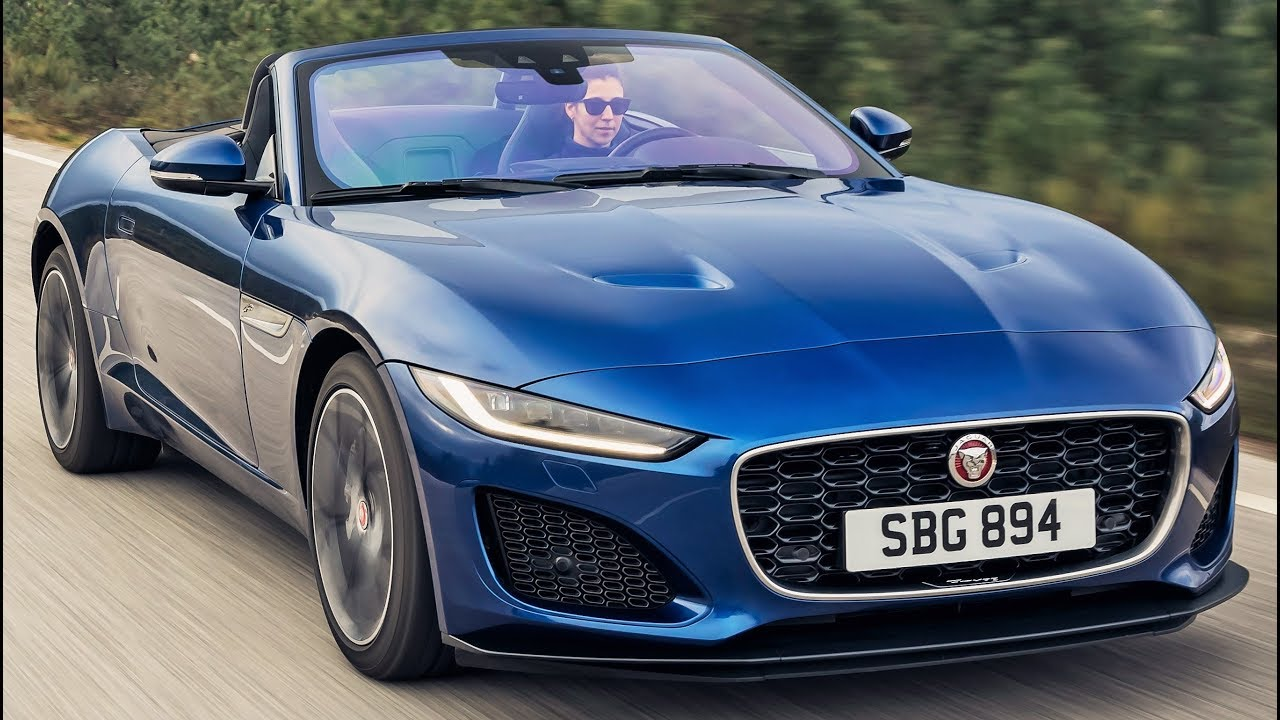car: (30, 27, 1250, 686)
